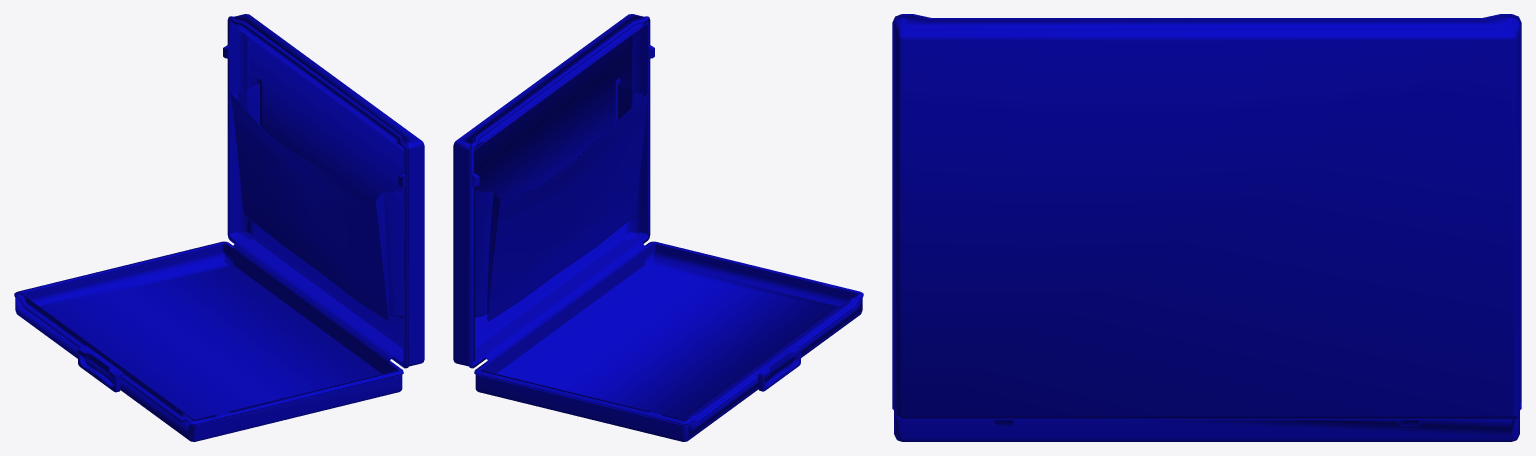
The picture shows the model from 3 angles, left to right: view 1: azimuth 30°, elevation 25°; view 2: azimuth 150°, elevation 25°; view 3: azimuth 270°, elevation 25°; orthographic projection. The views are drawn at different scales.
Visible parts, largest first — view 1: Btm_low, Briefcase_top_low, leatherpocket_low, tienpoignee_low, poignee_low; view 2: Btm_low, Briefcase_top_low, leatherpocket_low, tienpoignee_low, poignee_low; view 3: Briefcase_top_low, Btm_low.
Boxes of the visible parts, x1,y1,x2,y2 form: Btm_low: (14, 241, 403, 441); Briefcase_top_low: (223, 14, 424, 368); leatherpocket_low: (230, 78, 402, 321); tienpoignee_low: (78, 346, 122, 379); poignee_low: (78, 347, 120, 392); Btm_low: (474, 241, 863, 441); Briefcase_top_low: (453, 14, 654, 368); leatherpocket_low: (475, 78, 648, 321); tienpoignee_low: (756, 345, 800, 378); poignee_low: (758, 346, 800, 391); Briefcase_top_low: (892, 14, 1521, 420); Btm_low: (892, 401, 1521, 441).
Size of the model in its own units: 35.2 by 34.37 by 45.26.
